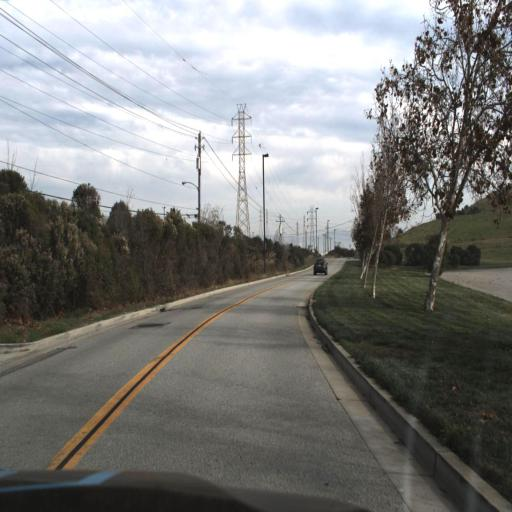car: (309, 253, 330, 277)
